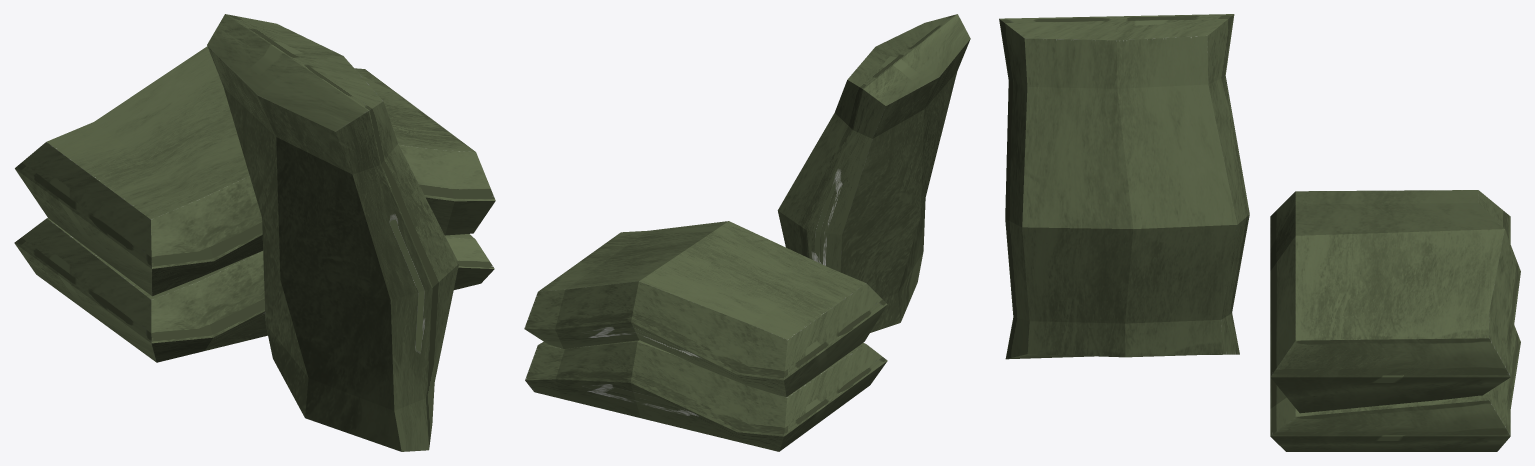
The model's file is Bag.obj.
3 renders of one model, left to right at view 1: azimuth 30°, elevation 25°; view 2: azimuth 150°, elevation 25°; view 3: azimuth 270°, elevation 25°, orthographic. The views are drawn at different scales.
Visible parts, largest first — view 1: Veritcal_bag_Cube.016_None, Bag_stack_Cube.003_None, Bag_1_Cube.002_None; view 2: Bag_stack_Cube.003_None, Veritcal_bag_Cube.016_None, Bag_1_Cube.002_None; view 3: Veritcal_bag_Cube.016_None, Bag_stack_Cube.003_None, Bag_1_Cube.002_None.
Boxes of the visible parts, bbox=[...] form: Veritcal_bag_Cube.016_None: bbox=[207, 14, 458, 451]; Bag_stack_Cube.003_None: bbox=[15, 46, 495, 296]; Bag_1_Cube.002_None: bbox=[14, 218, 494, 362]; Bag_stack_Cube.003_None: bbox=[524, 221, 887, 396]; Veritcal_bag_Cube.016_None: bbox=[777, 14, 970, 332]; Bag_1_Cube.002_None: bbox=[525, 340, 887, 451]; Veritcal_bag_Cube.016_None: bbox=[999, 14, 1249, 359]; Bag_stack_Cube.003_None: bbox=[1270, 190, 1520, 413]; Bag_1_Cube.002_None: bbox=[1270, 325, 1520, 451].
Size of the model in its own units: 1.85 by 1.85 by 2.77.
